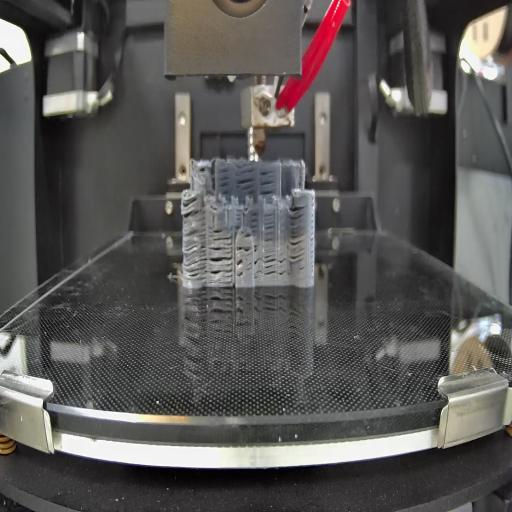cracks: (287, 204, 308, 265), (184, 226, 207, 280), (208, 244, 233, 284), (265, 250, 288, 278), (236, 167, 257, 195), (181, 195, 204, 220), (264, 208, 278, 244), (259, 167, 277, 195), (219, 166, 232, 196), (237, 240, 260, 254), (213, 228, 233, 243), (252, 208, 260, 232), (236, 258, 245, 279), (254, 260, 263, 280), (234, 208, 242, 228), (199, 165, 208, 175), (243, 234, 252, 238)
